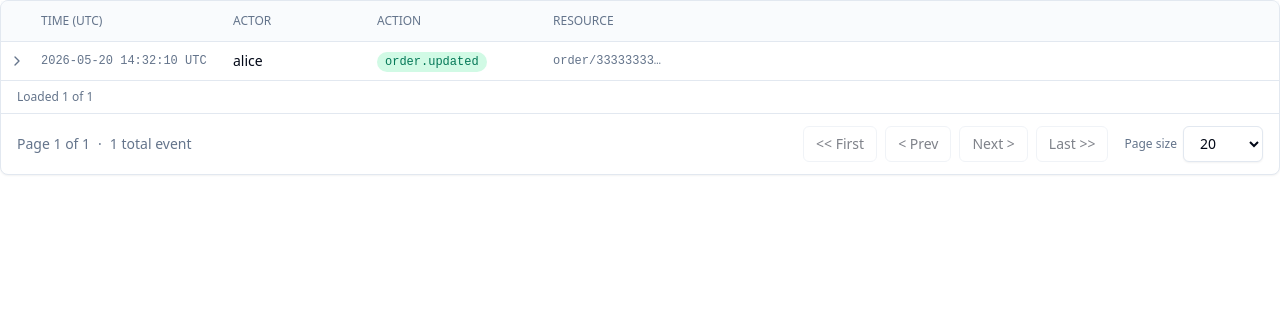
Test case: AuditTable › toggles a row open and shows the JSON diff when clicked
Click the row "2026-05-20 14:32:10 UTC alice order.updated order/33333333…" at [640, 60], box [1,41,1279,80]
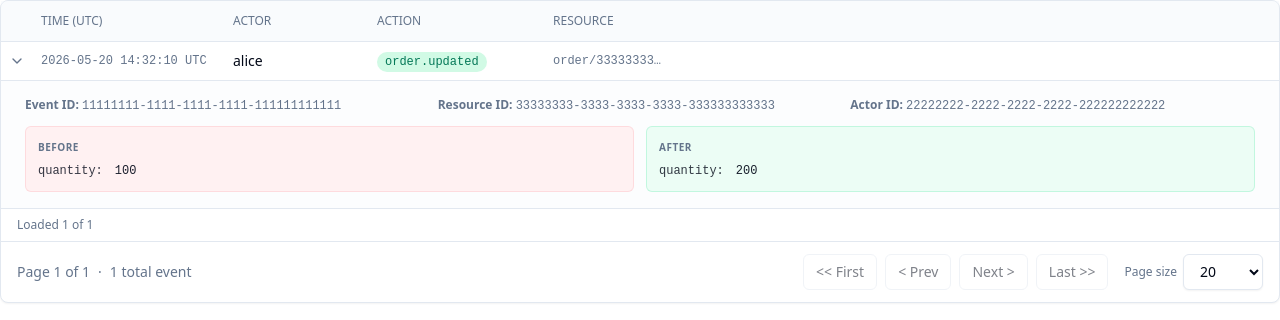
Check: the element with test id "json-diff" is shown, box [25,126,1255,192]
